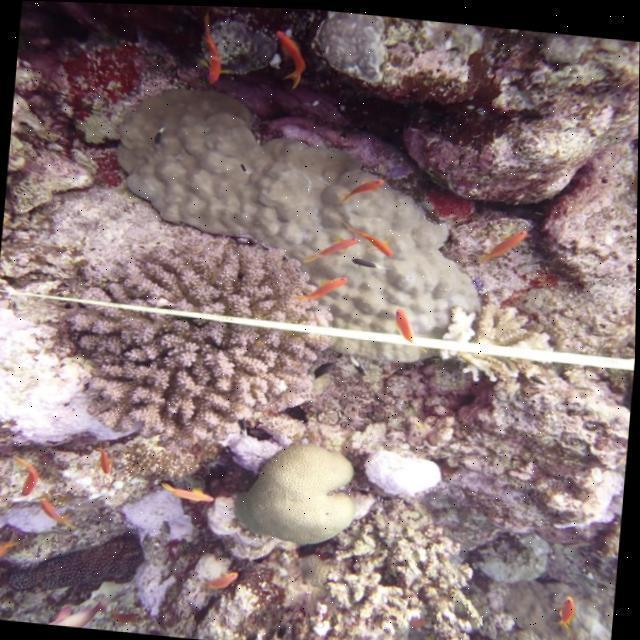Bleached Coral: (233, 443, 371, 556), (0, 300, 77, 458), (369, 428, 466, 505)
Healthy Coral: (143, 230, 323, 438)
